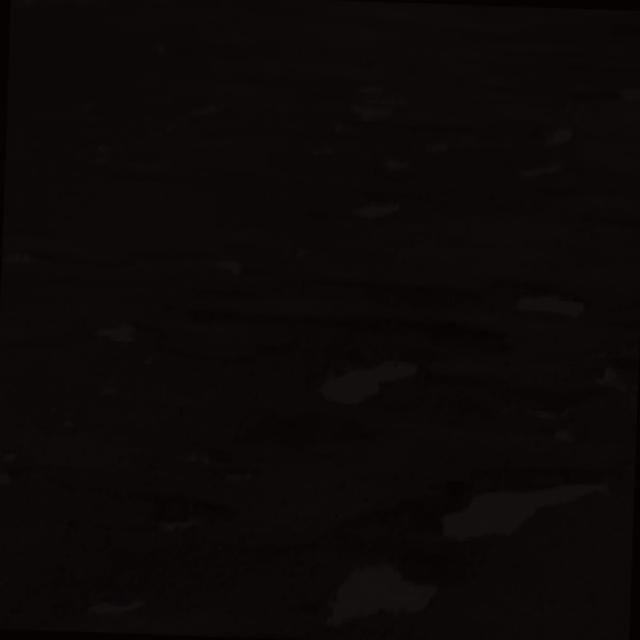Pothole: (415, 468, 622, 550), (305, 545, 448, 640), (493, 377, 592, 454), (296, 346, 426, 404), (109, 478, 238, 536), (69, 574, 174, 638), (492, 280, 586, 329), (317, 187, 414, 230), (72, 319, 154, 360), (355, 76, 403, 125), (515, 155, 573, 189), (585, 361, 640, 393), (607, 72, 640, 119), (520, 118, 581, 143), (216, 250, 252, 284), (429, 132, 479, 155), (382, 141, 411, 180)
